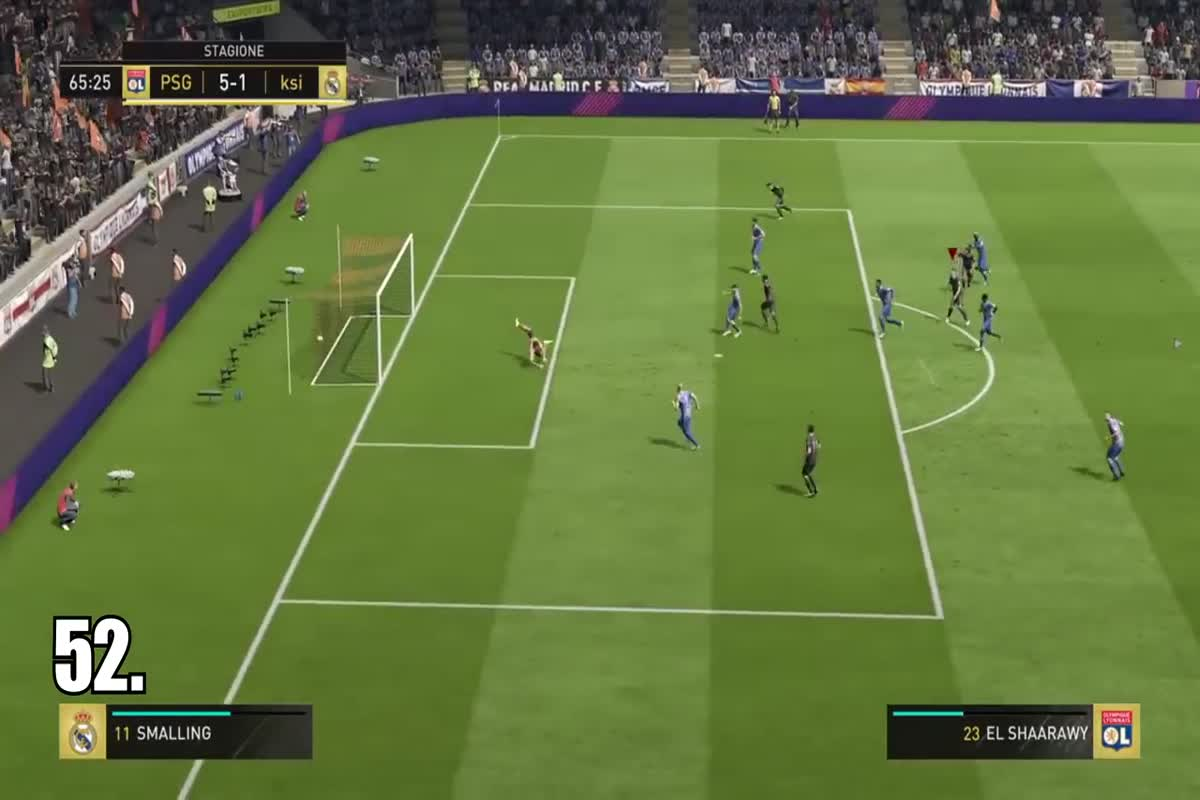ball: (310, 327, 334, 349)
